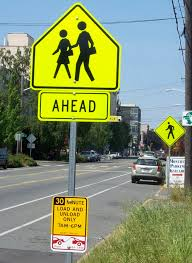slow: (28, 3, 123, 93)
